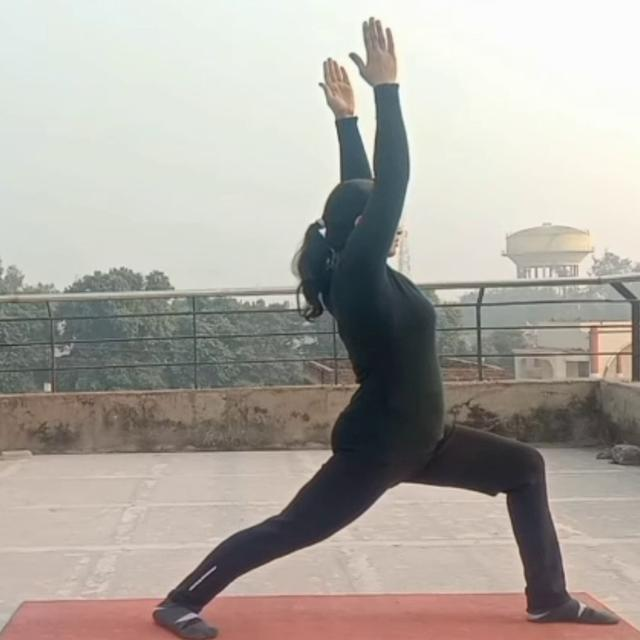Warrior_I: (129, 10, 621, 636)
